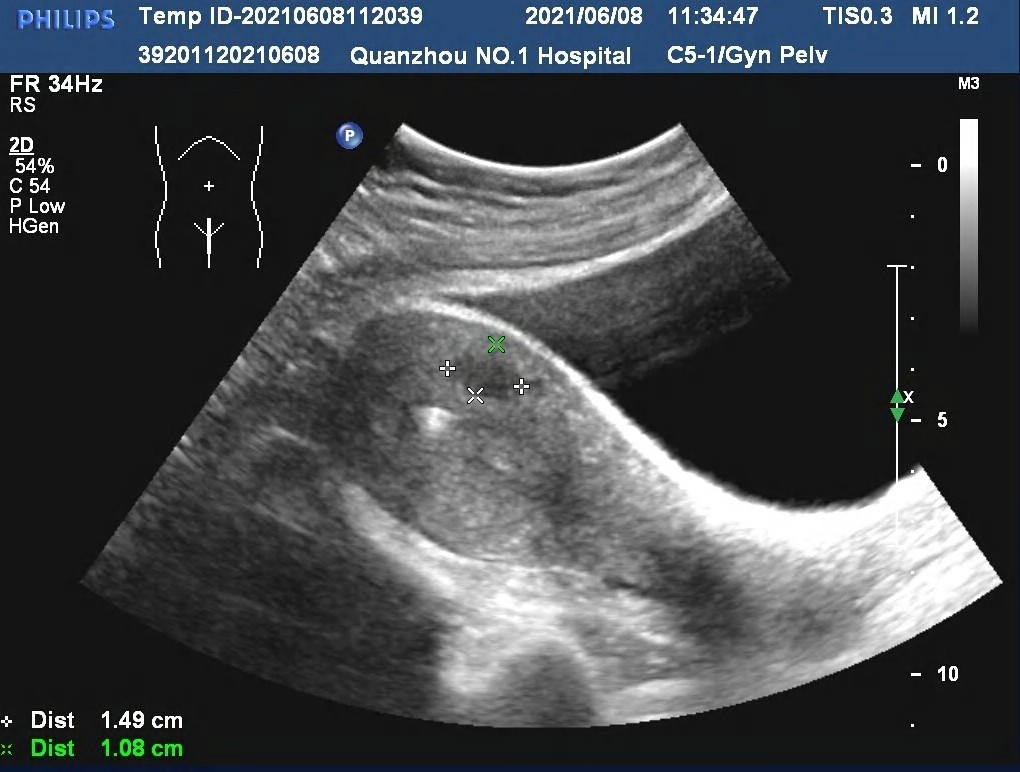肌瘤: (450, 345, 525, 398)
